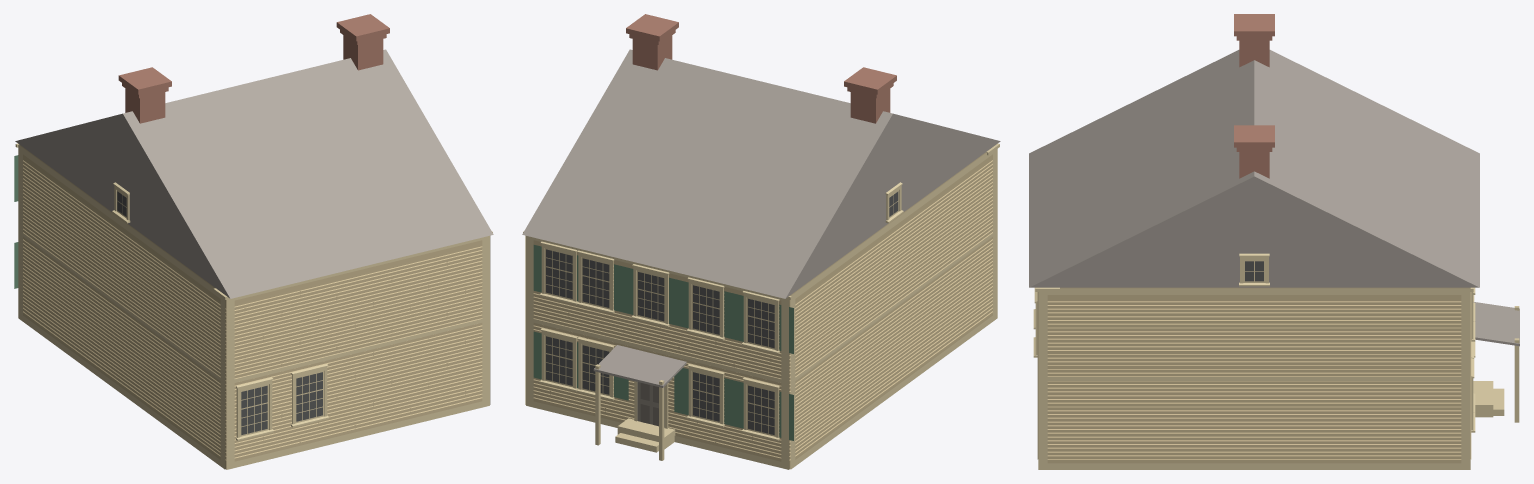
File: recon_1835_blk_washington_franklin_h2_02__inferred_1835.glb
3 renders of one model, left to right at view 1: azimuth 30°, elevation 25°; view 2: azimuth 150°, elevation 25°; view 3: azimuth 270°, elevation 25°, orthographic. The views are drawn at different scales.
Visible parts, largest first — view 1: recon_1835_blk_washington_franklin_h2_02__inferred_1835; view 2: recon_1835_blk_washington_franklin_h2_02__inferred_1835; view 3: recon_1835_blk_washington_franklin_h2_02__inferred_1835.
Part boxes in pixels (x1,y1,x2,y2): recon_1835_blk_washington_franklin_h2_02__inferred_1835: (14, 14, 493, 469); recon_1835_blk_washington_franklin_h2_02__inferred_1835: (522, 14, 1000, 469); recon_1835_blk_washington_franklin_h2_02__inferred_1835: (1029, 14, 1519, 469).
Size of the model in its own units: 9 by 9.83 by 13.49.
